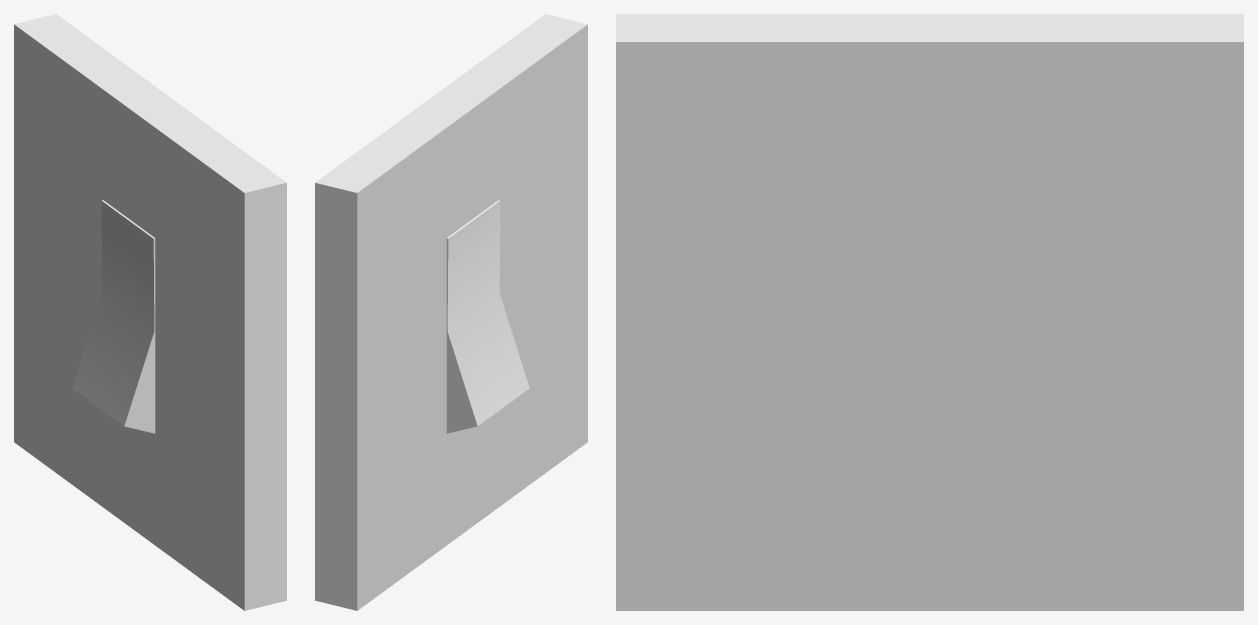
Rendered from switch.fbx.
The picture shows the model from 3 angles, left to right: view 1: azimuth 30°, elevation 25°; view 2: azimuth 150°, elevation 25°; view 3: azimuth 270°, elevation 25°; orthographic projection. The views are drawn at different scales.
Visible parts, largest first — view 1: switch_panel, switch_button; view 2: switch_panel, switch_button; view 3: switch_panel.
Boxes of the visible parts, x1,y1,x2,y2 form: switch_panel: (14, 14, 286, 610); switch_button: (72, 200, 155, 433); switch_panel: (315, 14, 587, 610); switch_button: (446, 200, 529, 433); switch_panel: (616, 14, 1243, 610).
Size of the model in its own units: 4.91 by 26.73 by 26.73.
2 materials, 2 textured.
